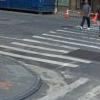Crosswalk: (4, 26, 91, 77)
